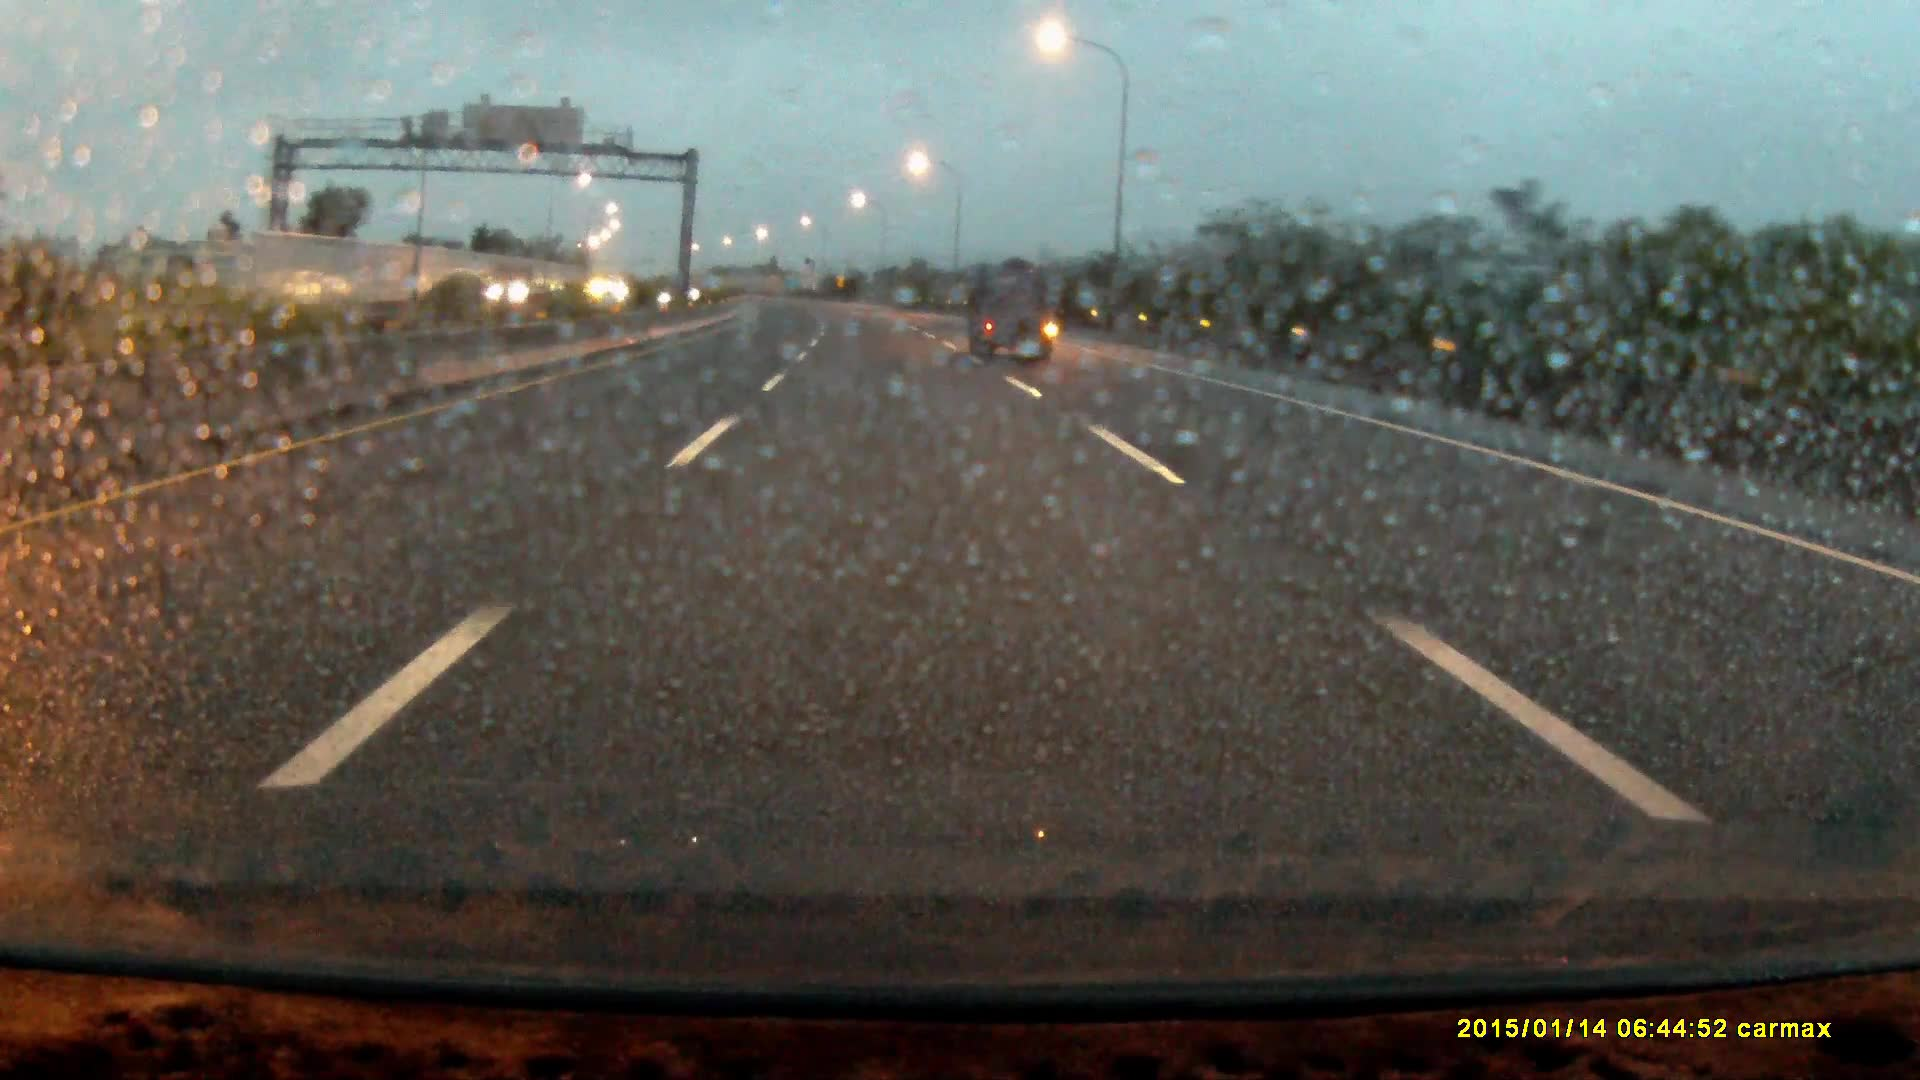vehicle: (971, 272, 1058, 364), (487, 262, 562, 314)
